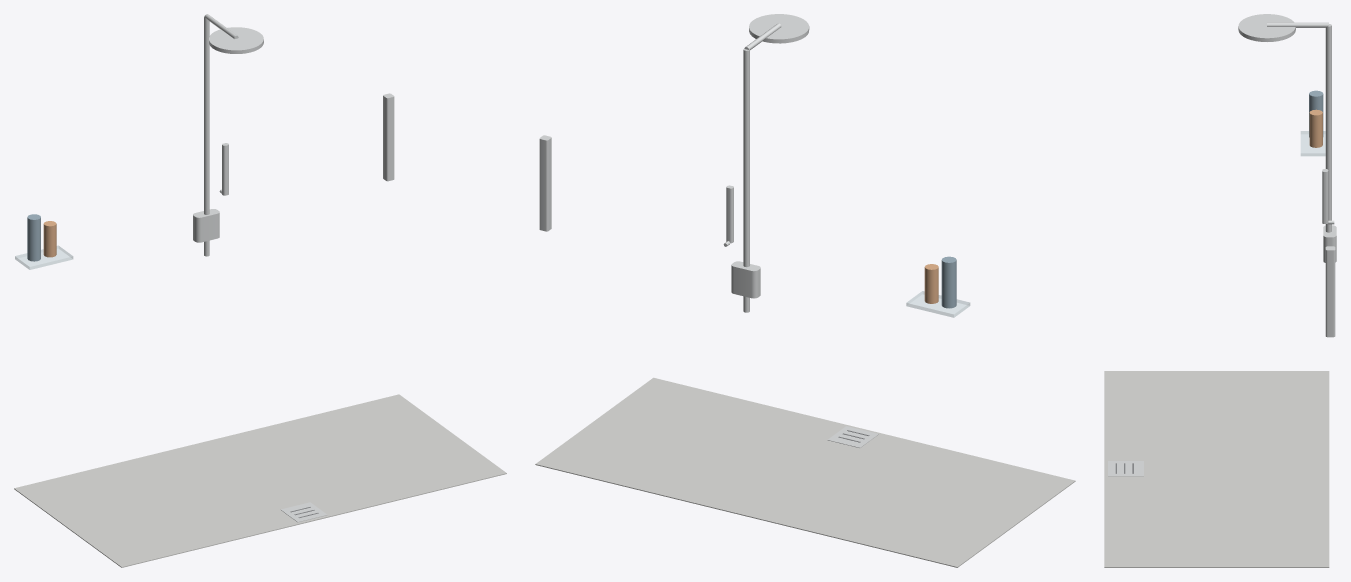
3 views of the same model, side by side, from view 1: azimuth 30°, elevation 25°; view 2: azimuth 150°, elevation 25°; view 3: azimuth 270°, elevation 25° (orthographic). The views are drawn at different scales.
Visible parts, largest first — view 1: Sen tắm Rộng=2000; Sâu=1000; view 2: Sen tắm Rộng=2000; Sâu=1000; view 3: Sen tắm Rộng=2000; Sâu=1000.
Boxes of the visible parts, x1,y1,x2,y2 form: Sen tắm Rộng=2000; Sâu=1000: [14, 14, 506, 567]; Sen tắm Rộng=2000; Sâu=1000: [535, 14, 1075, 567]; Sen tắm Rộng=2000; Sâu=1000: [1104, 14, 1336, 567].
Size of the model in its own units: 1.94 by 2.06 by 0.97.
